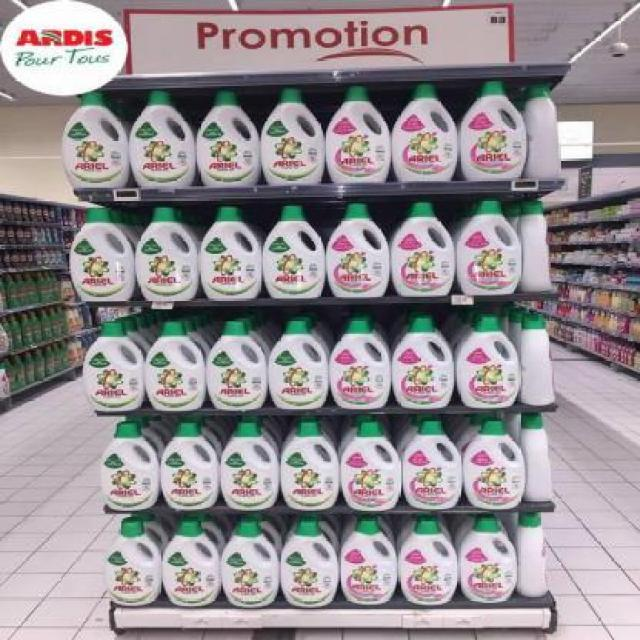Detergent: (452, 193, 525, 295), (328, 75, 395, 183), (452, 305, 519, 410), (386, 82, 457, 181), (127, 88, 198, 186), (63, 90, 131, 188), (459, 77, 523, 181), (136, 208, 207, 301), (64, 207, 134, 301), (261, 201, 328, 299), (390, 194, 455, 295), (216, 412, 282, 511), (196, 88, 262, 186), (324, 317, 394, 409), (338, 412, 402, 511), (400, 415, 466, 511), (276, 410, 338, 512), (461, 414, 528, 508), (78, 323, 148, 412), (267, 314, 331, 411), (388, 316, 454, 410), (276, 513, 342, 607), (206, 315, 271, 410), (454, 512, 520, 605), (394, 512, 460, 603), (202, 208, 268, 298), (102, 512, 162, 610), (330, 197, 388, 298), (146, 315, 205, 411), (157, 520, 221, 608), (222, 518, 282, 611), (337, 516, 398, 606), (101, 422, 161, 510), (158, 422, 218, 508)
